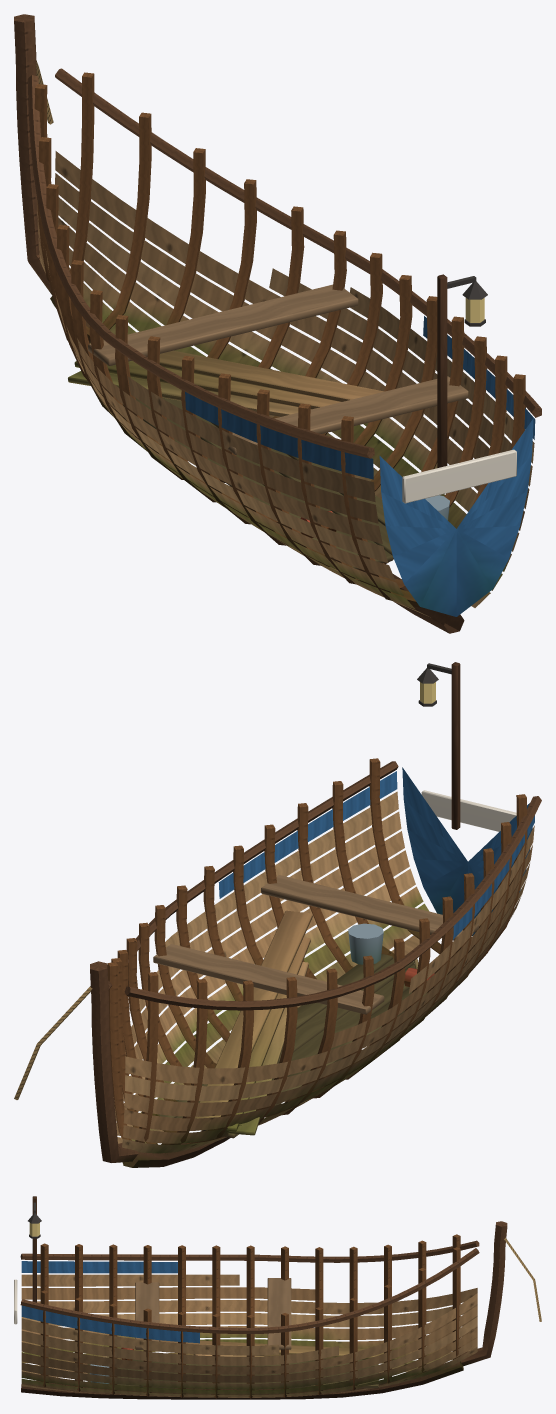
File: shipwright-boat.glb
The picture shows the model from 3 angles, top to bottom: view 1: azimuth 30°, elevation 25°; view 2: azimuth 150°, elevation 25°; view 3: azimuth 270°, elevation 25°; orthographic projection. The views are drawn at different scales.
Visible parts, largest first — view 1: shipwright-boat; view 2: shipwright-boat; view 3: shipwright-boat.
Part boxes in pixels (x1=…): shipwright-boat: x1=14, y1=14, x2=541, y2=633; shipwright-boat: x1=14, y1=662, x2=541, y2=1167; shipwright-boat: x1=14, y1=1196, x2=541, y2=1399.
Size of the model in its own units: 2.71 by 3.36 by 7.98.
4 materials, 2 textured.
